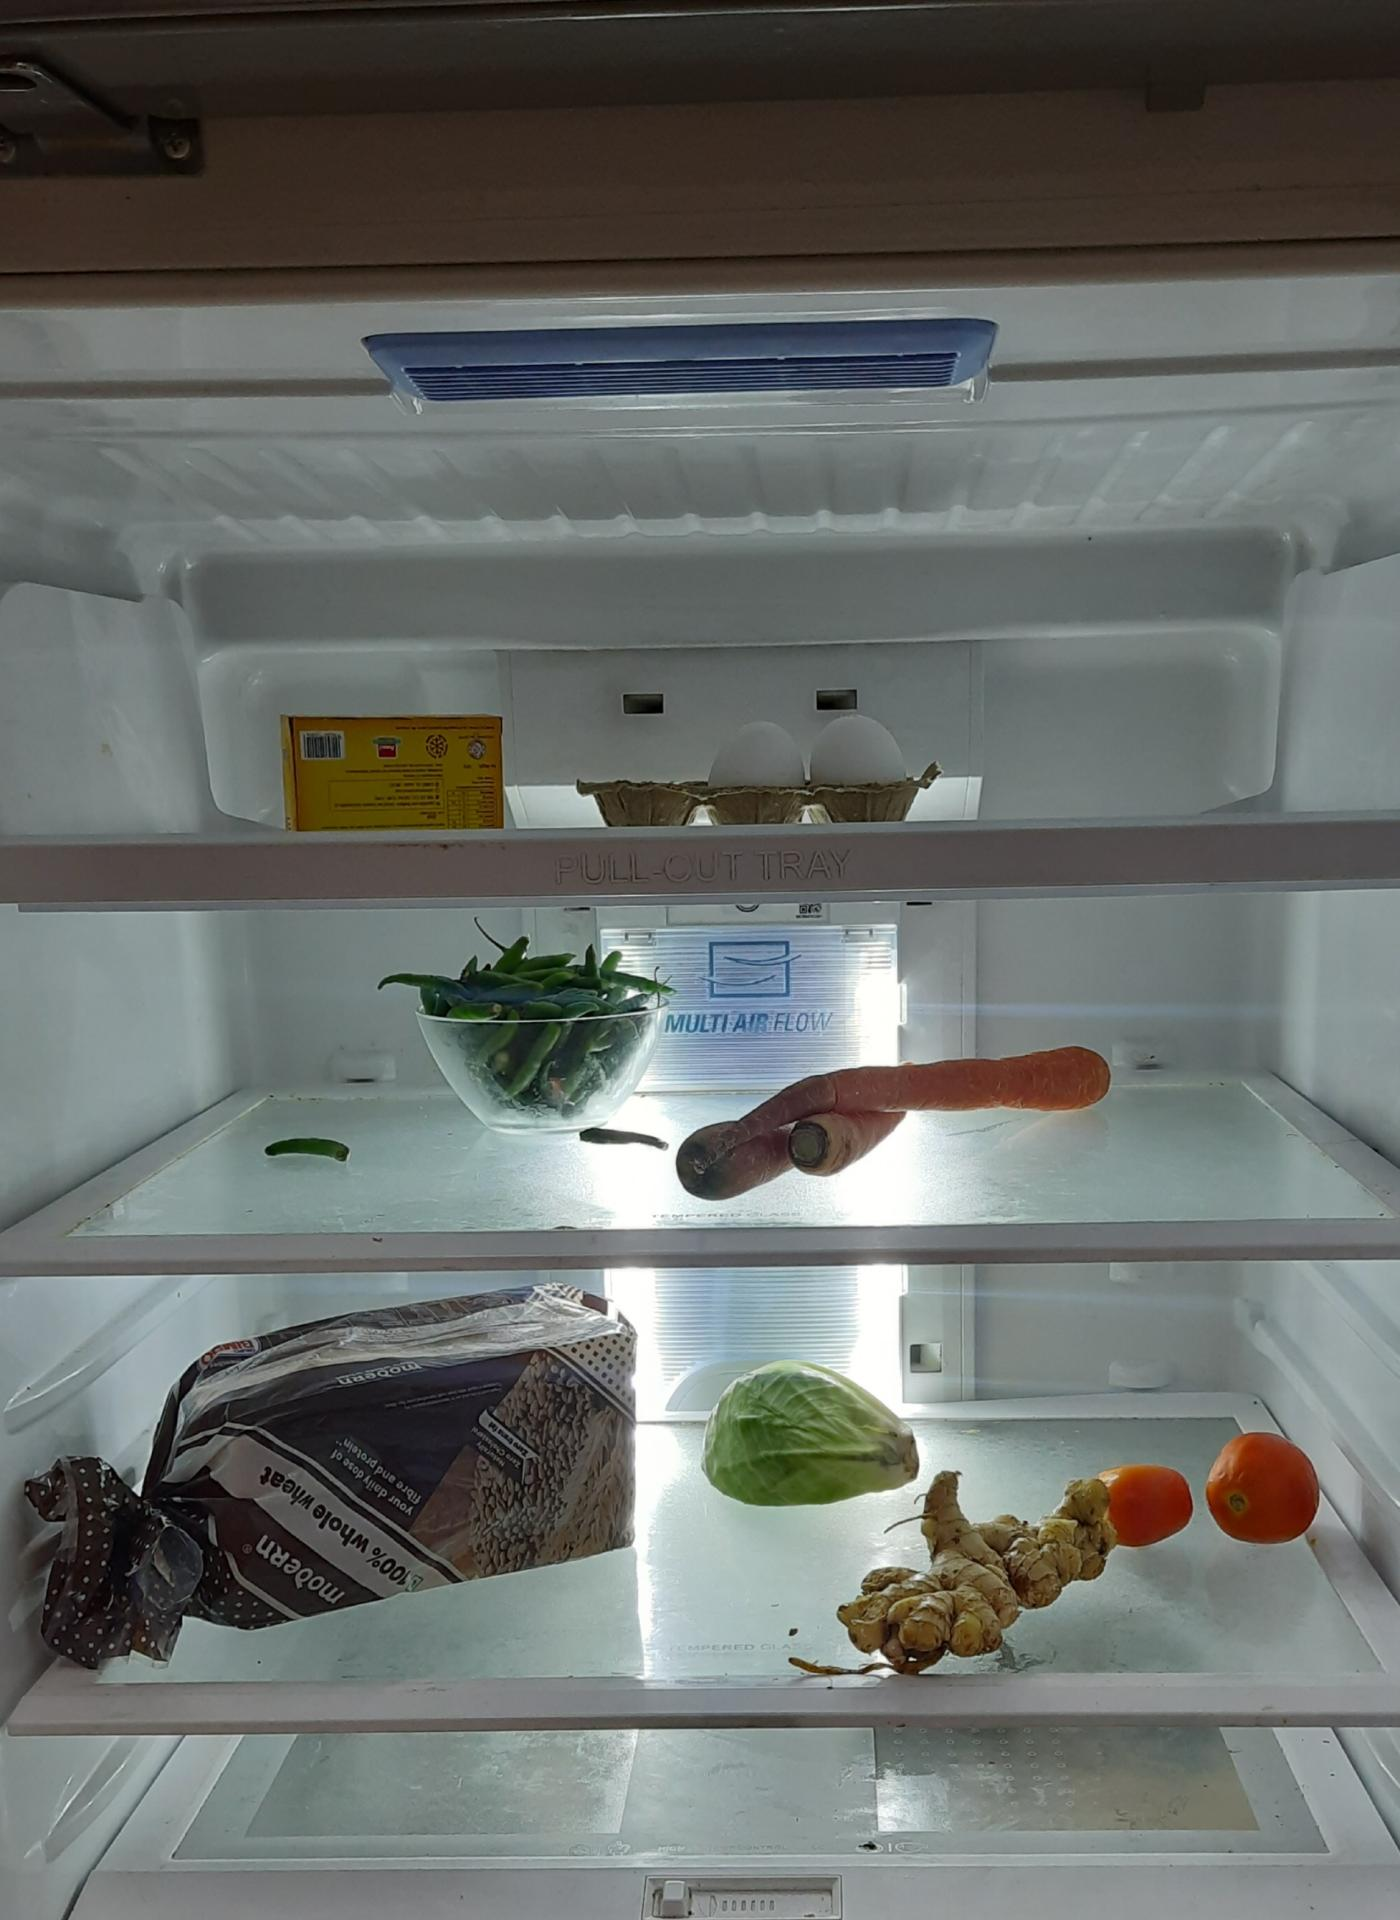bread: (43, 1273, 645, 1666)
butter: (277, 701, 505, 829)
cabbage: (703, 1373, 926, 1514)
carrots: (669, 1044, 1103, 1198)
chillies: (420, 941, 663, 1122)
egg: (711, 712, 923, 818)
ginger: (834, 1486, 1112, 1672)
tomato: (1103, 1432, 1322, 1549)
